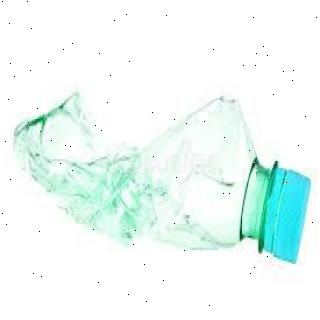Plastic-bottle: (11, 87, 314, 269)
